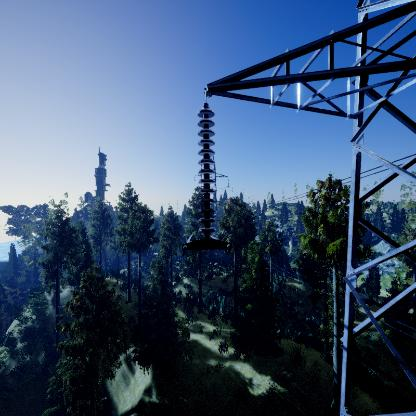insulator: (193, 105, 218, 237)
